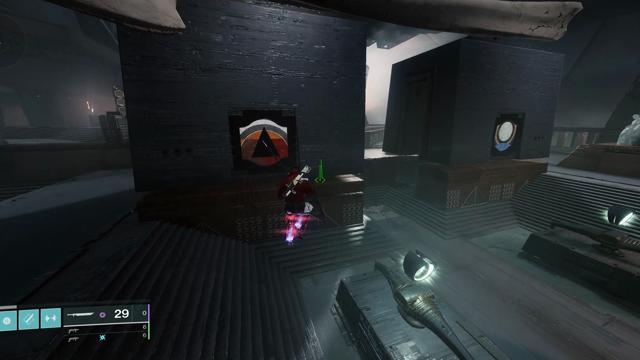pyramid: (239, 119, 288, 166)
traveler: (494, 121, 517, 152)
